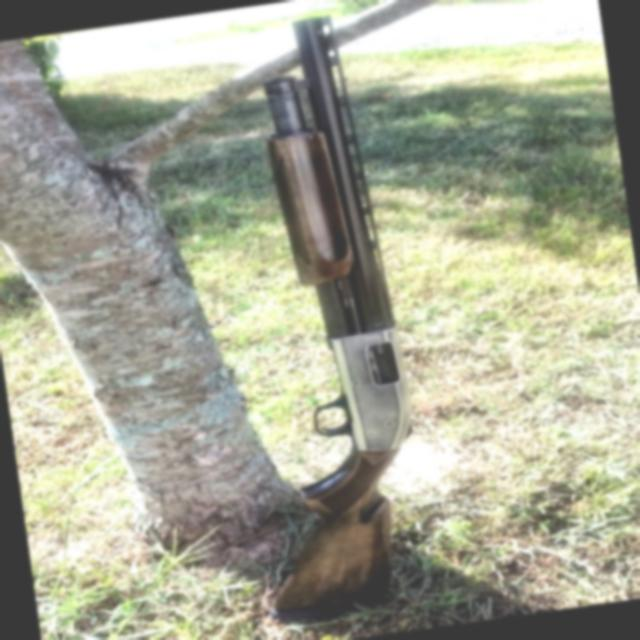shotgun: (122, 0, 518, 640)
